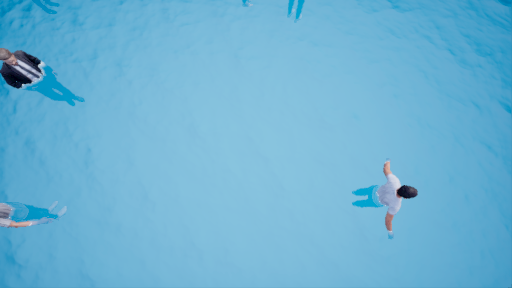person: (353, 142, 421, 242), (1, 39, 85, 107), (1, 197, 89, 233)
